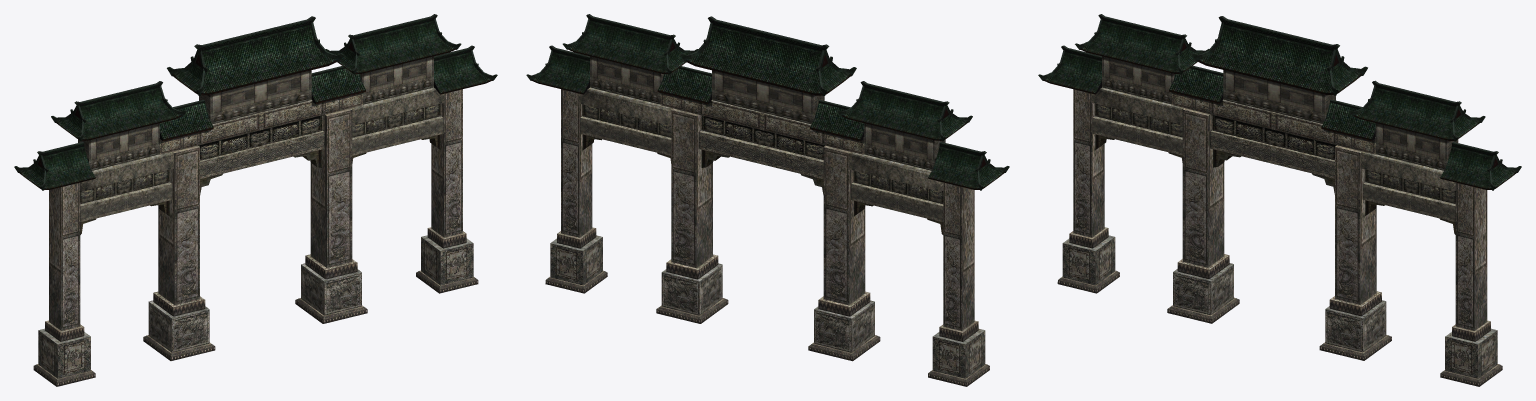
Rendered from c1-034-stonedoor-01.fbx.
3 views of the same model, side by side, from view 1: azimuth 30°, elevation 25°; view 2: azimuth 150°, elevation 25°; view 3: azimuth 330°, elevation 25° (orthographic).
Visible parts, largest first — view 1: c1-034-stonedoor-02; view 2: c1-034-stonedoor-02; view 3: c1-034-stonedoor-02.
Part boxes in pixels (<box>): c1-034-stonedoor-02: <box>14,14,497,386</box>; c1-034-stonedoor-02: <box>526,14,1009,386</box>; c1-034-stonedoor-02: <box>1038,14,1521,386</box>.
Bounding box in the file's own units: 29.7 × 18.41 × 3.51.
